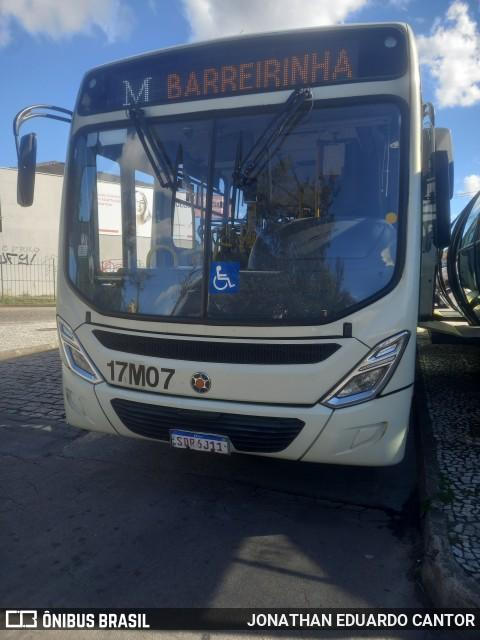BARREIRINHA: (161, 44, 359, 104)
